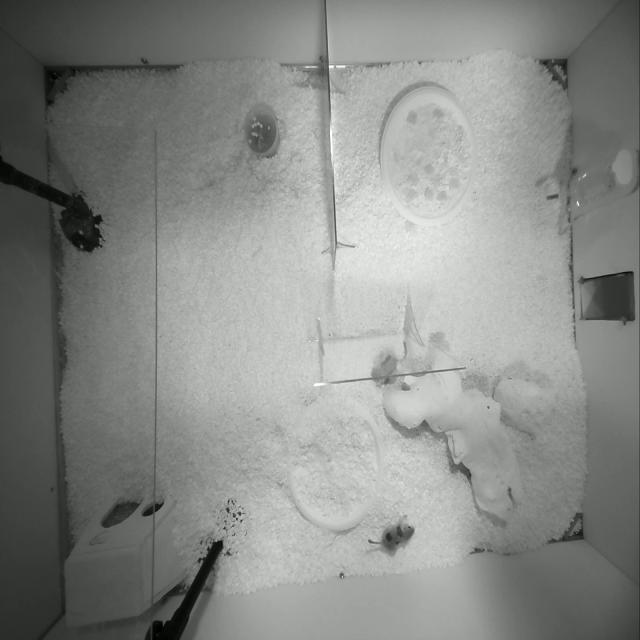pup_spotted: (368, 514, 415, 552)
pup_v_stripe: (371, 343, 408, 385)
